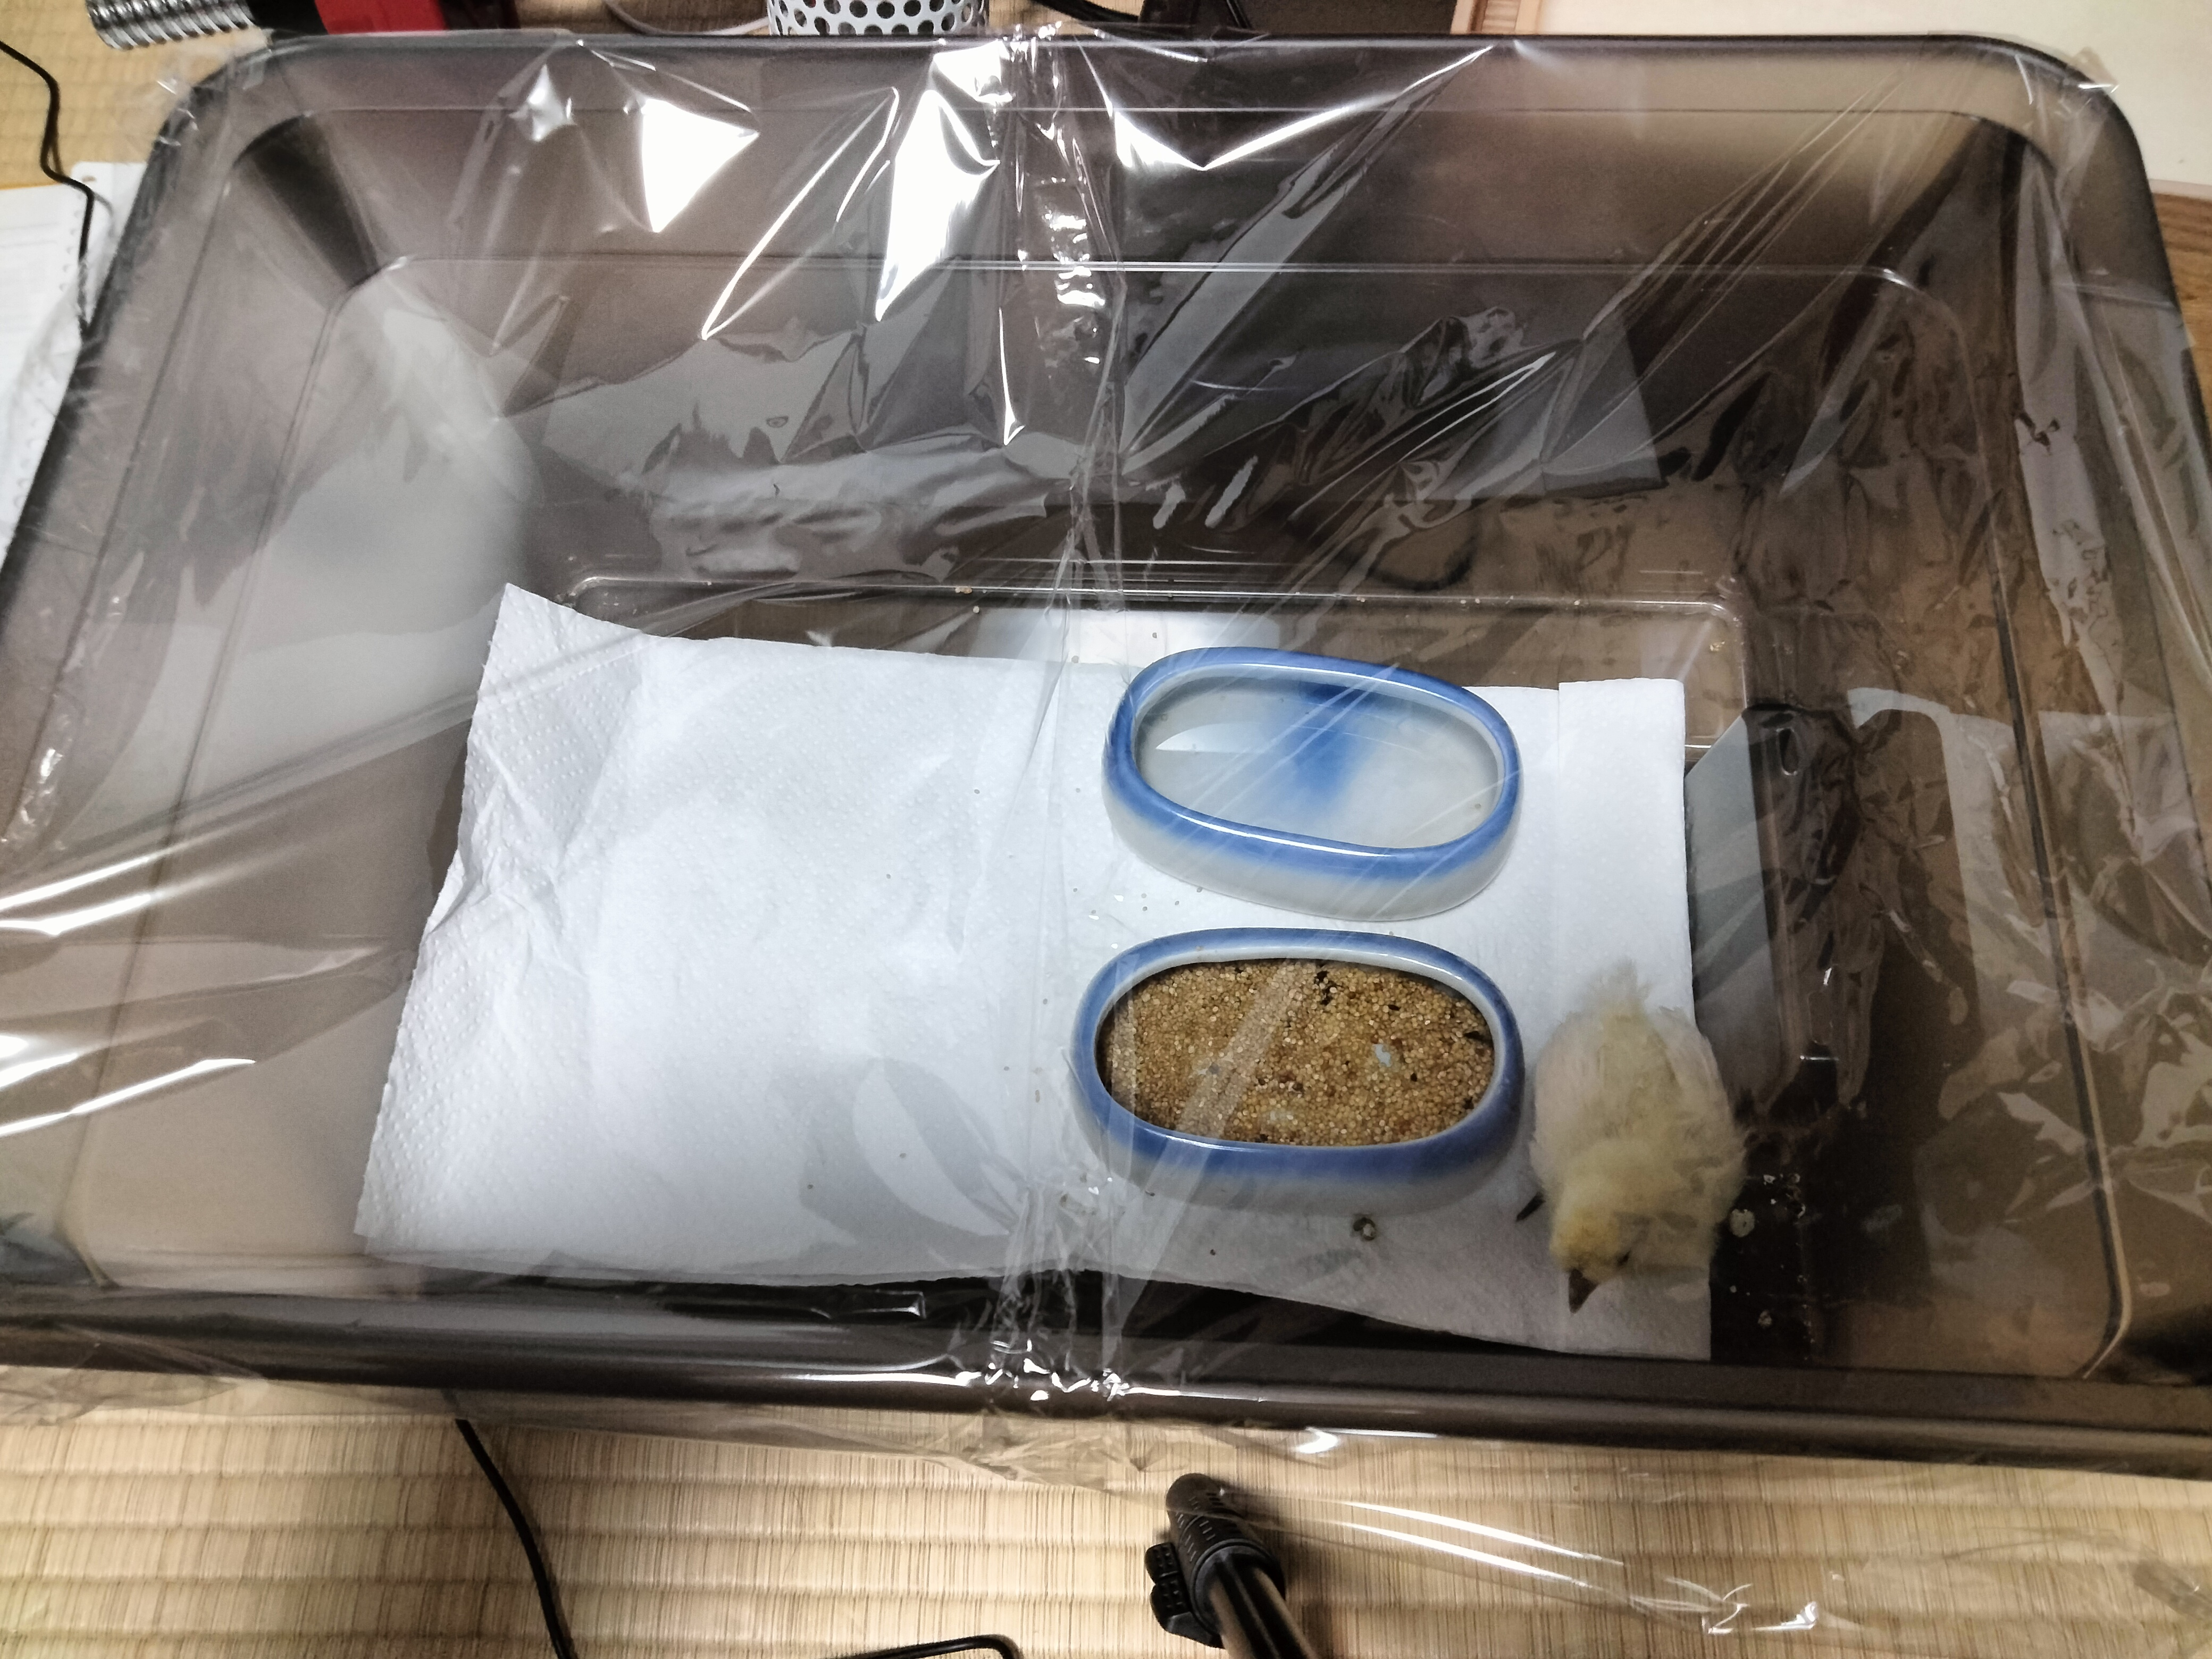shiro: (1470, 938, 1773, 1344)
